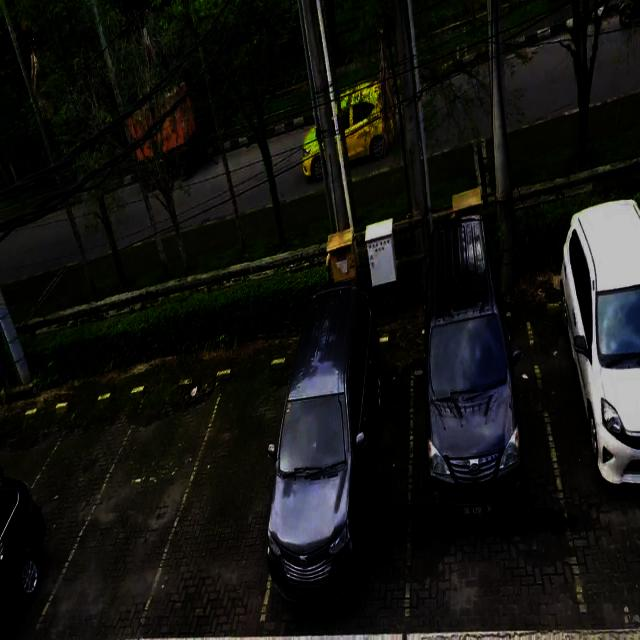empty: (172, 361, 270, 631), (92, 375, 192, 634), (0, 391, 91, 635)
occupied: (273, 329, 416, 624), (407, 296, 545, 586), (547, 266, 639, 573)
